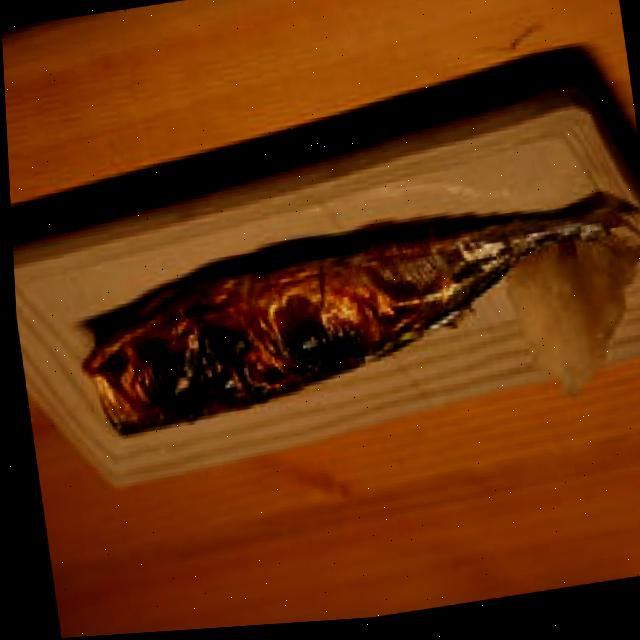熟制海鲜: (10, 168, 640, 529)
